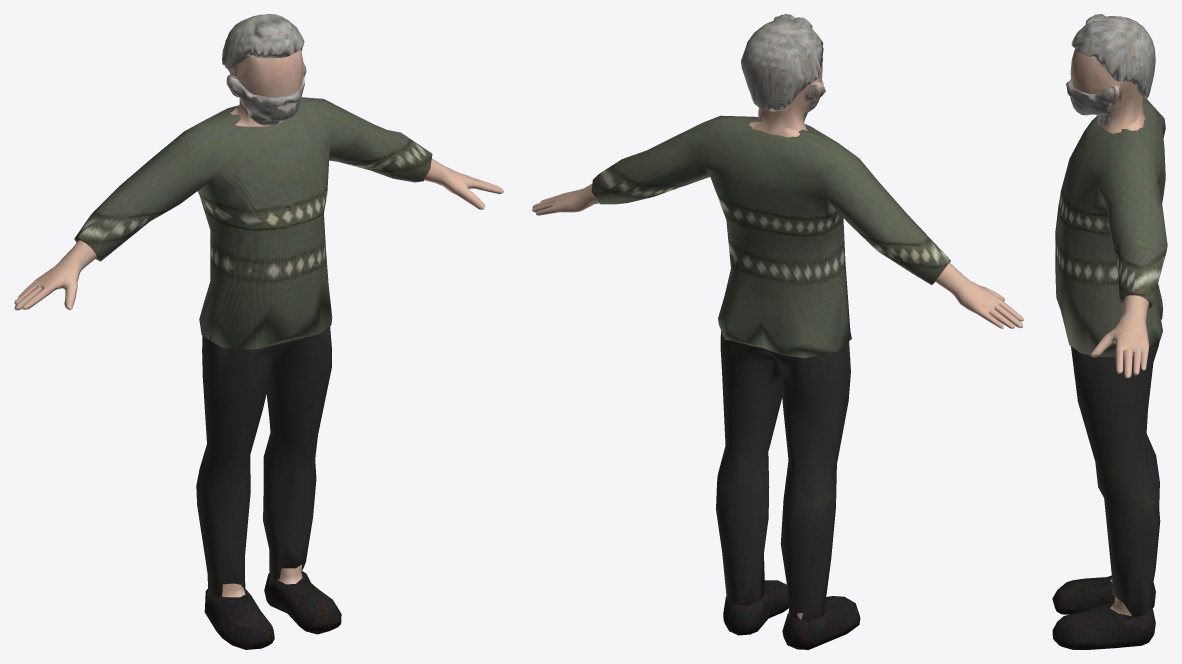
Rendered from npc_x_grandpa3.glb.
3 views of the same model, side by side, from view 1: azimuth 30°, elevation 25°; view 2: azimuth 150°, elevation 25°; view 3: azimuth 270°, elevation 25° (orthographic).
Visible parts, largest first — view 1: Human; view 2: Human; view 3: Human.
Part boxes in pixels (box(x1,y1,x2,y2)): Human: box(14, 14, 503, 649); Human: box(532, 14, 1023, 649); Human: box(1052, 14, 1167, 649).
Size of the model in its own units: 1.48 by 1.76 by 0.3026.
1 material, 1 textured.
